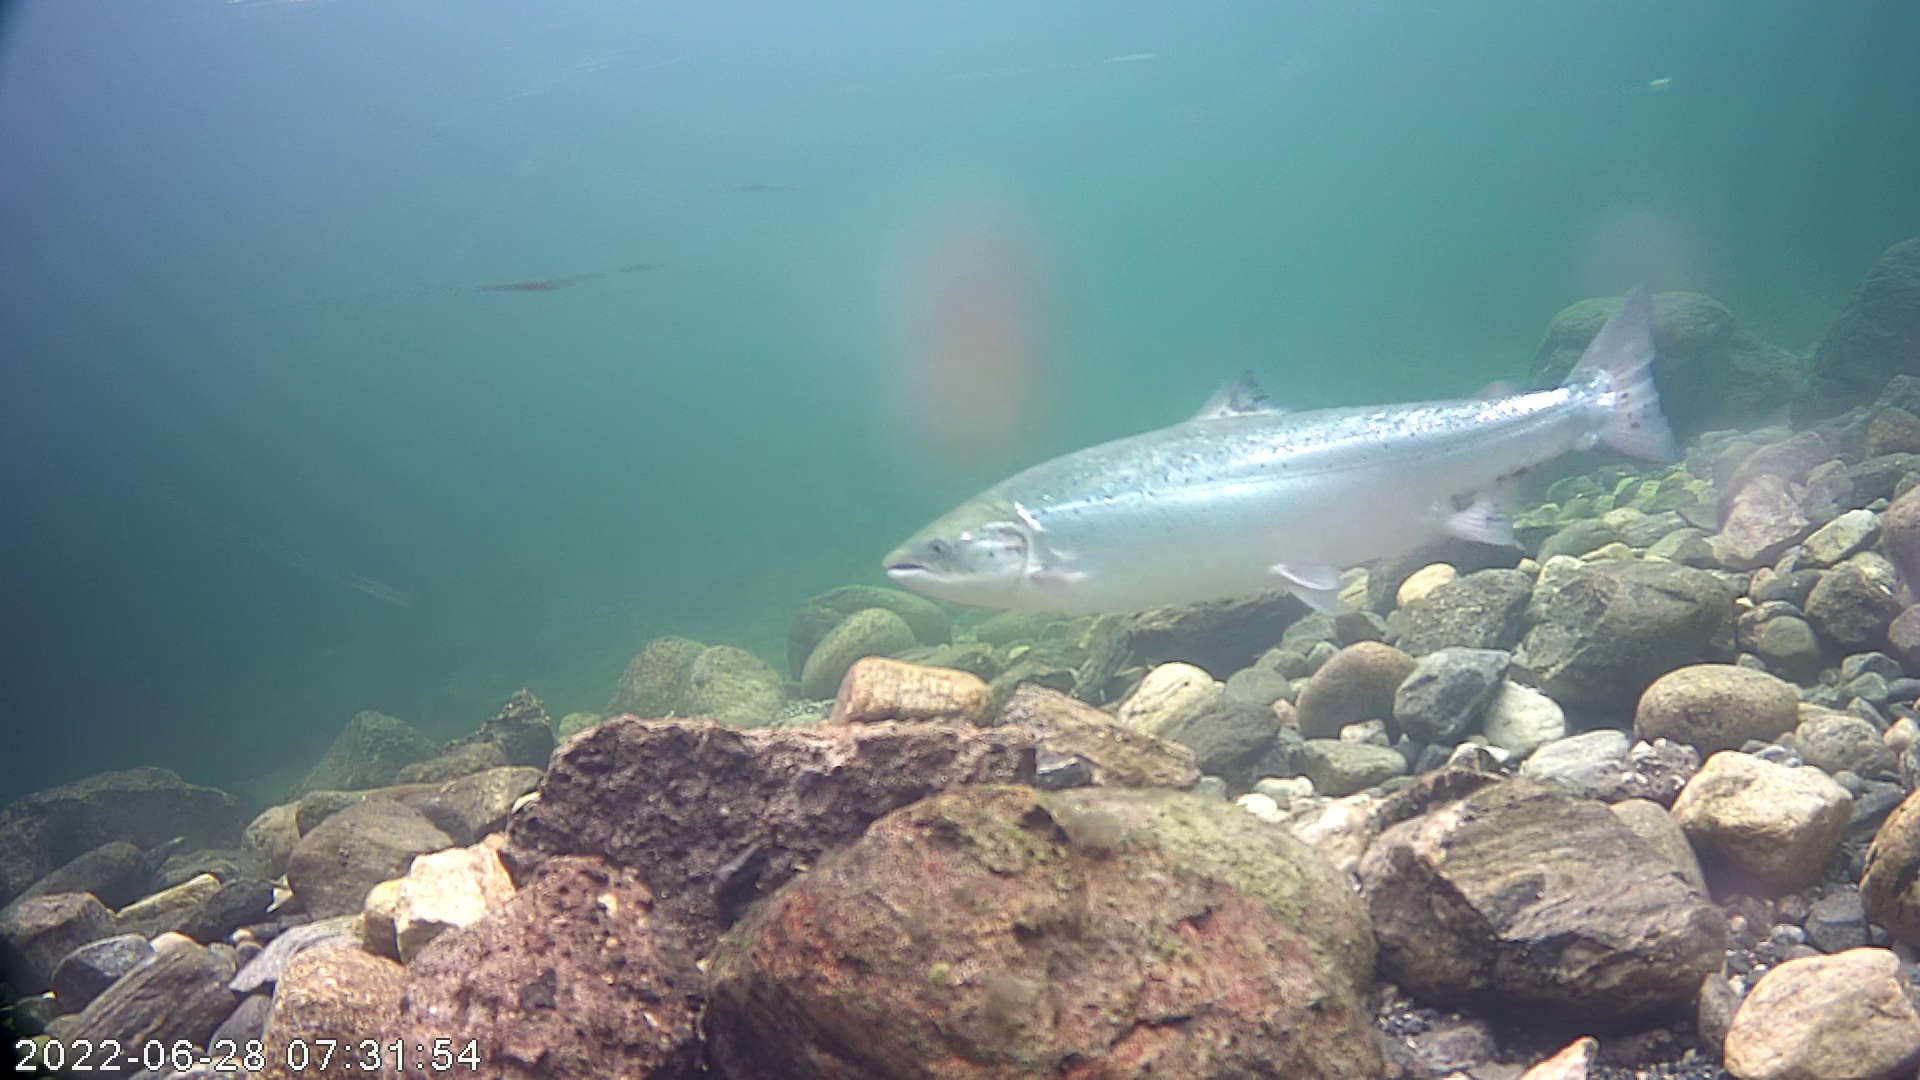salmon: (856, 252, 1698, 675)
